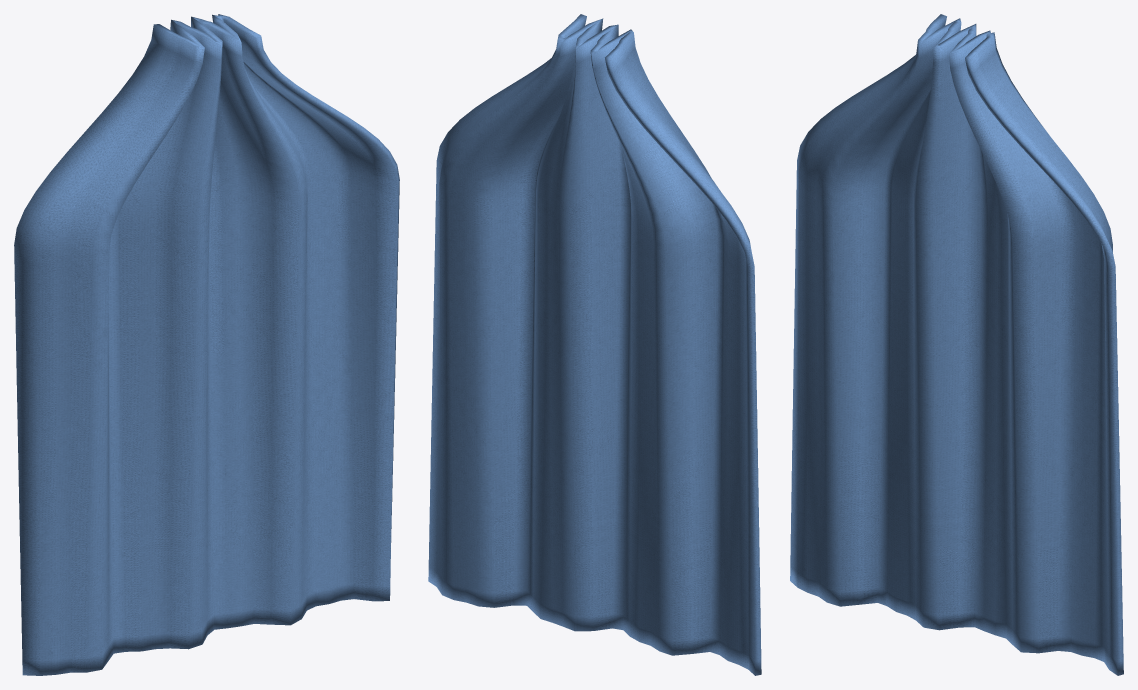
The model's file is TowelHanging.glb.
3 renders of one model, left to right at view 1: azimuth 30°, elevation 25°; view 2: azimuth 150°, elevation 25°; view 3: azimuth 330°, elevation 25°, orthographic. The views are drawn at different scales.
Visible parts, largest first — view 1: TowelHanging; view 2: TowelHanging; view 3: TowelHanging.
Boxes of the visible parts, <box> form: TowelHanging: <box>14,14,399,675</box>; TowelHanging: <box>428,14,761,675</box>; TowelHanging: <box>790,14,1123,675</box>.
Size of the model in its own units: 0.4054 by 0.6608 by 0.0811.
Materials: 1 (1 with a texture image).
